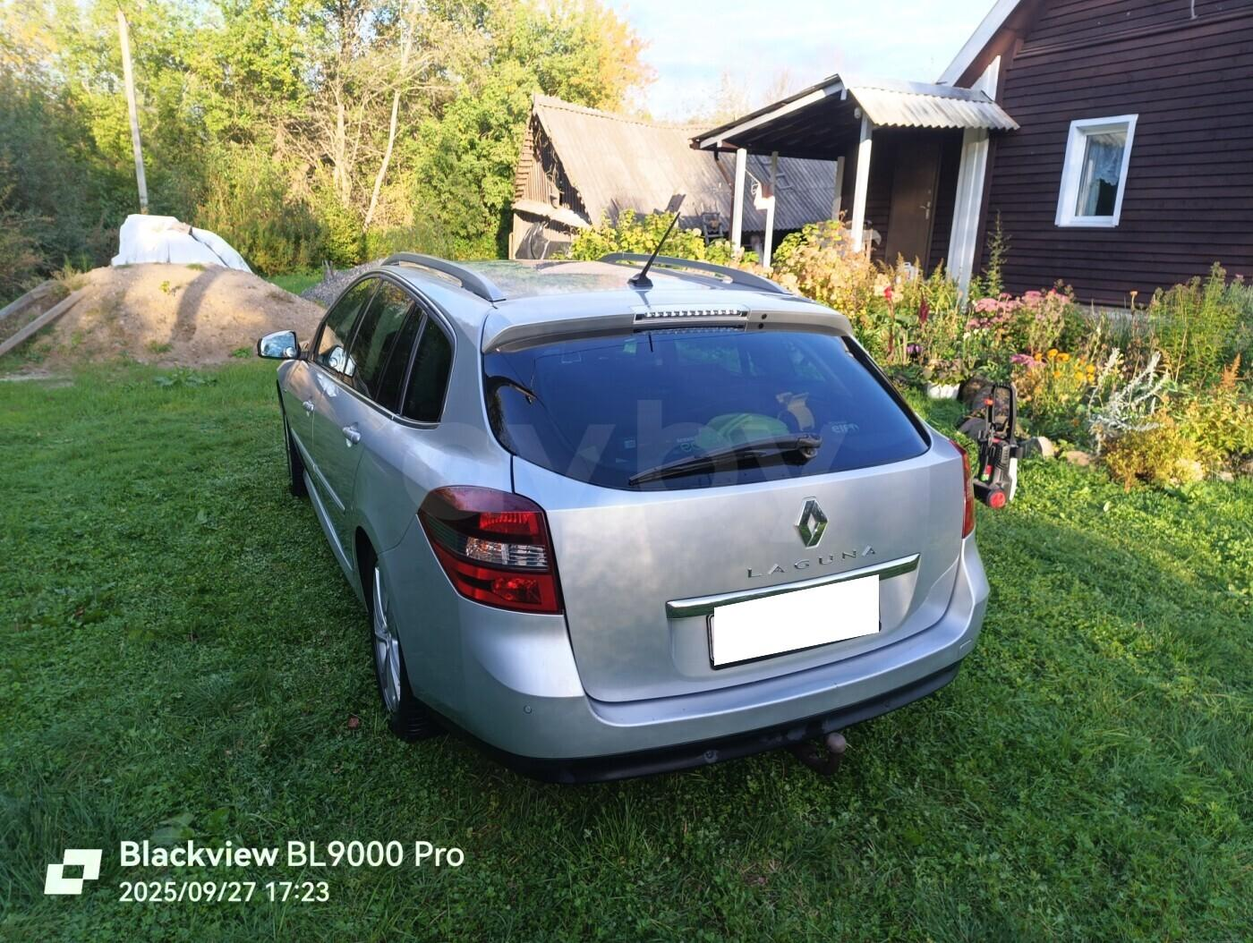Laguna_2010-2015: (258, 245, 1002, 778)
